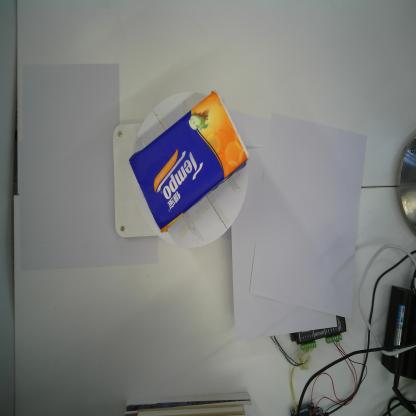Tissue: (129, 90, 248, 233)
